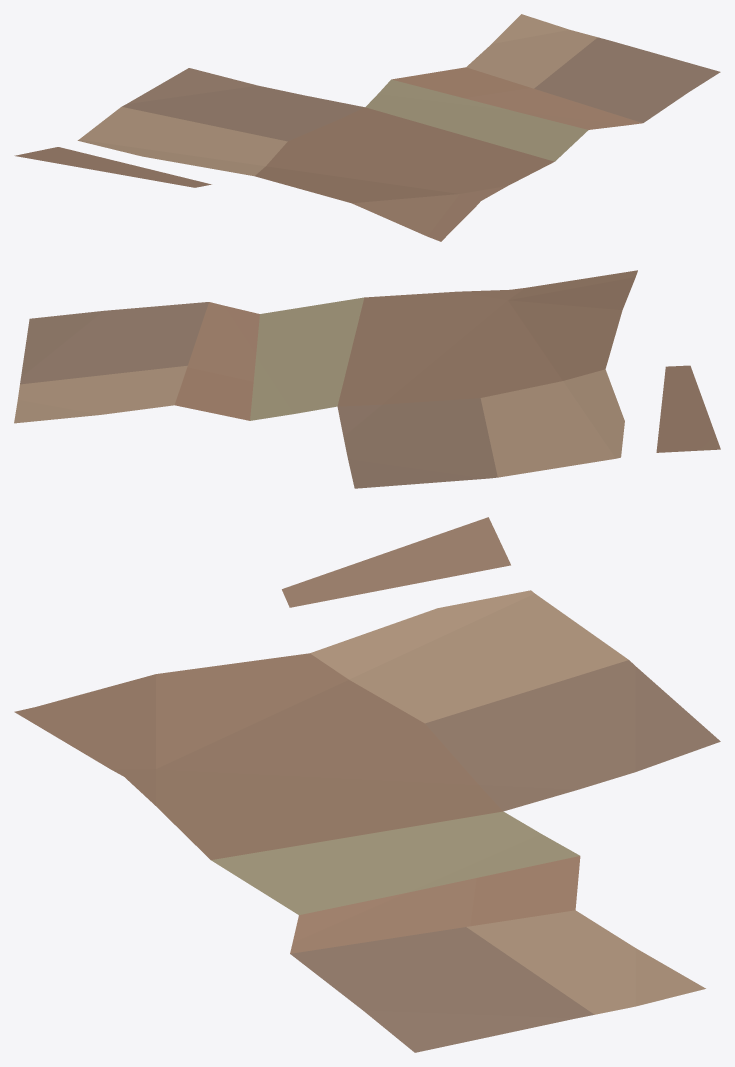
The model's file is farm_-36_-48_soil.glb.
The picture shows the model from 3 angles, top to bottom: view 1: azimuth 30°, elevation 25°; view 2: azimuth 150°, elevation 25°; view 3: azimuth 270°, elevation 25°; orthographic projection. The views are drawn at different scales.
Visible parts, largest first — view 1: geometry_0; view 2: geometry_0; view 3: geometry_0.
Boxes of the visible parts, x1,y1,x2,y2 form: geometry_0: (14, 14, 720, 241); geometry_0: (14, 270, 720, 488); geometry_0: (14, 517, 720, 1052).
Size of the model in its own units: 178 by 15.58 by 118.
